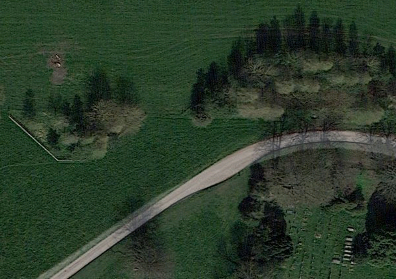tree: (118, 222, 178, 279), (91, 96, 151, 137), (175, 100, 221, 133)
